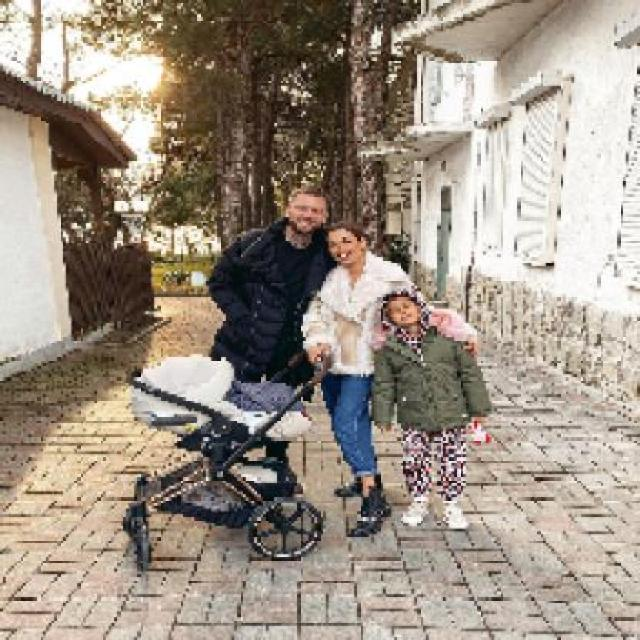child: (372, 286, 492, 532)
